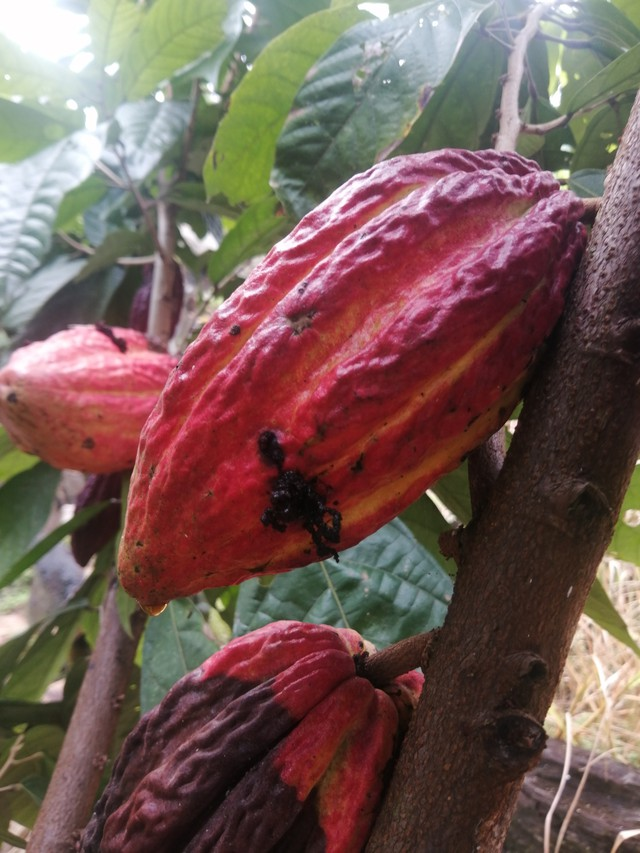carmenta foraseminis: (111, 143, 601, 620), (66, 633, 434, 848), (0, 321, 176, 480)
